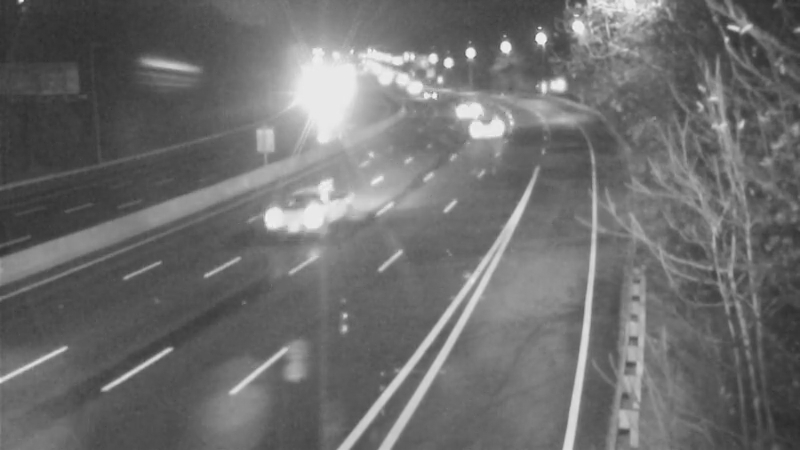vehicle: (262, 179, 342, 259), (387, 61, 437, 111), (405, 71, 455, 121), (432, 83, 482, 133), (464, 100, 514, 150), (299, 75, 349, 125)
